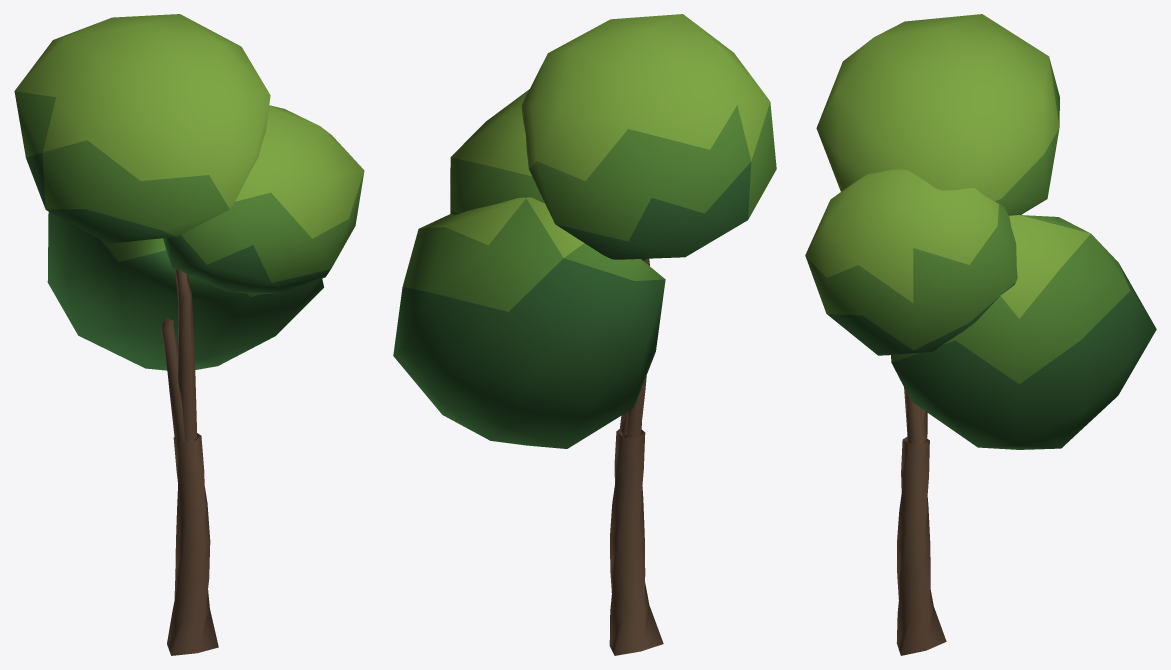
Rendered from SaplingA_LOD.glb.
3 renders of one model, left to right at view 1: azimuth 30°, elevation 25°; view 2: azimuth 150°, elevation 25°; view 3: azimuth 270°, elevation 25°, orthographic. The views are drawn at different scales.
Parts seen in each view (by area): view 1: SaplingA_LOD.leafLight, SaplingA_LOD.leafDark, SaplingA_LOD.leafMid, SaplingA_LOD.bark; view 2: SaplingA_LOD.leafDark, SaplingA_LOD.leafLight, SaplingA_LOD.leafMid, SaplingA_LOD.bark; view 3: SaplingA_LOD.leafLight, SaplingA_LOD.leafMid, SaplingA_LOD.leafDark, SaplingA_LOD.bark.
Part boxes in pixels (x1,y1,x2,y2): SaplingA_LOD.leafLight: (15, 14, 364, 238); SaplingA_LOD.leafDark: (26, 152, 330, 370); SaplingA_LOD.leafMid: (14, 91, 364, 296); SaplingA_LOD.bark: (161, 269, 218, 655); SaplingA_LOD.leafDark: (393, 162, 751, 448); SaplingA_LOD.leafLight: (419, 14, 770, 257); SaplingA_LOD.leafMid: (402, 102, 776, 311); SaplingA_LOD.bark: (609, 258, 663, 655); SaplingA_LOD.leafLight: (805, 14, 1090, 318); SaplingA_LOD.leafMid: (805, 58, 1130, 384); SaplingA_LOD.leafDark: (827, 202, 1156, 449); SaplingA_LOD.bark: (896, 387, 946, 655).
Size of the model in its own units: 5.73 by 11.28 by 5.97.
